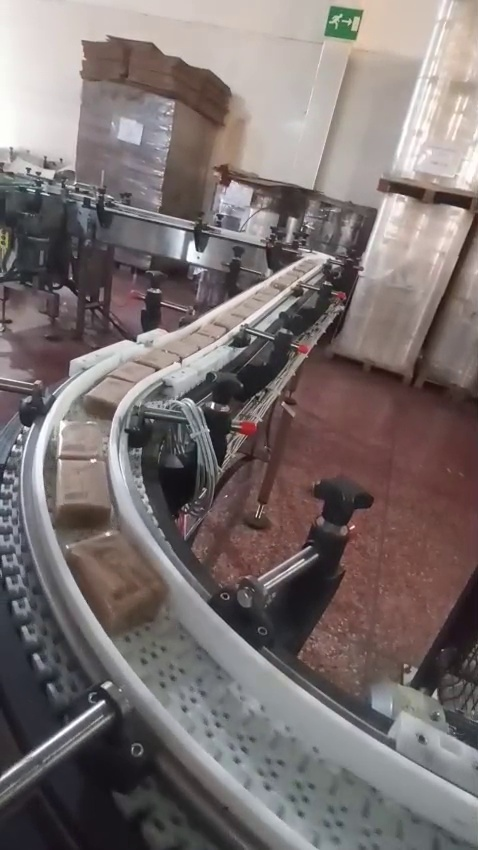savon: (164, 100, 254, 217), (69, 537, 166, 635), (142, 42, 226, 96), (57, 503, 110, 539), (347, 0, 372, 76), (452, 193, 478, 248), (390, 182, 434, 205), (444, 266, 464, 312), (365, 664, 406, 684), (88, 401, 113, 420), (84, 64, 100, 82)
